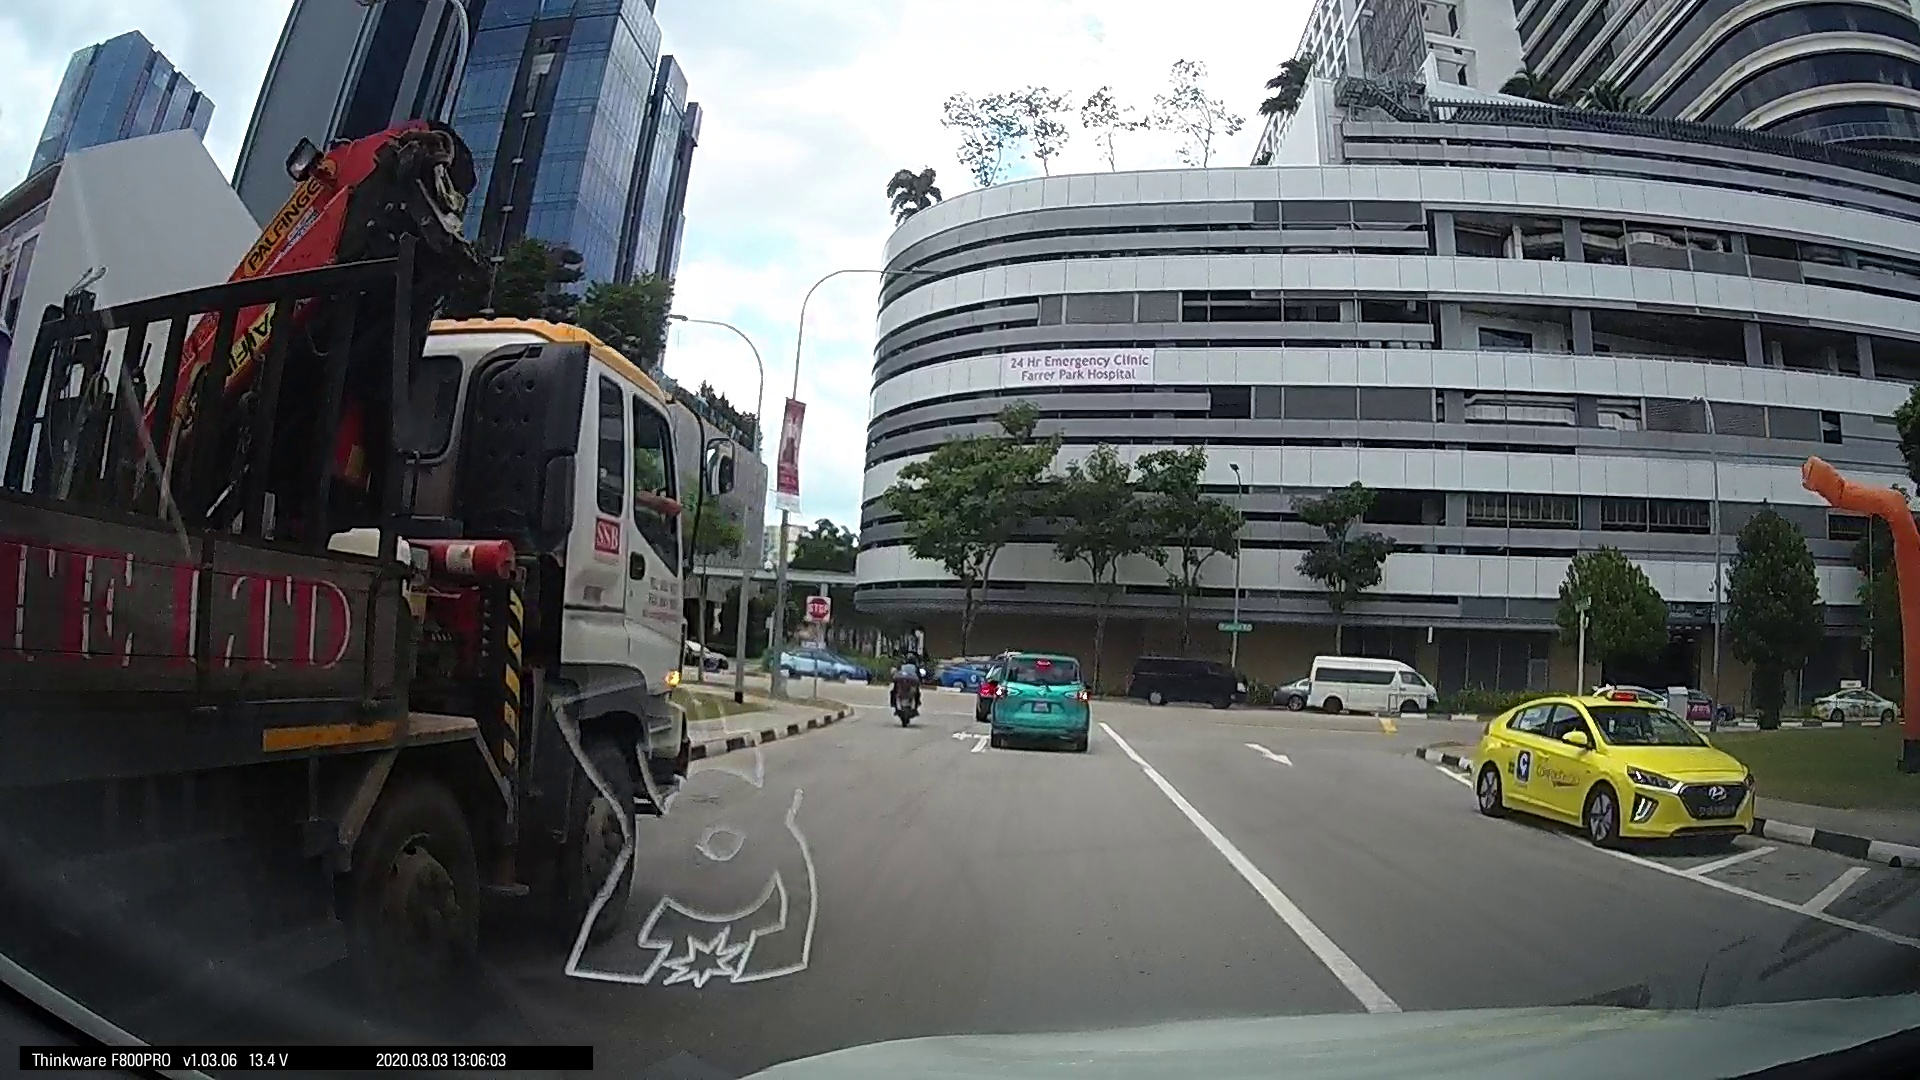Heavy Vehicle: (32, 179, 735, 1027)
Light Vehicle: (1466, 683, 1762, 856), (978, 650, 1091, 749), (1280, 651, 1443, 716), (1124, 646, 1244, 705)
Motorcycle: (882, 646, 924, 724)
